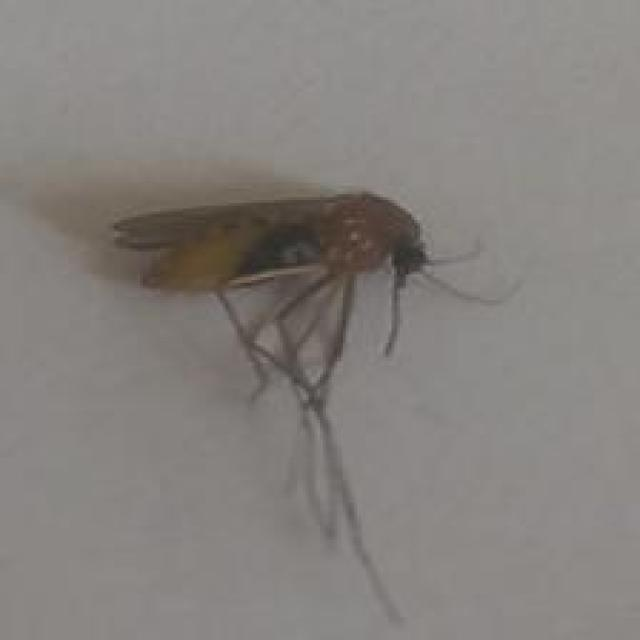Culex: (108, 188, 523, 626)
